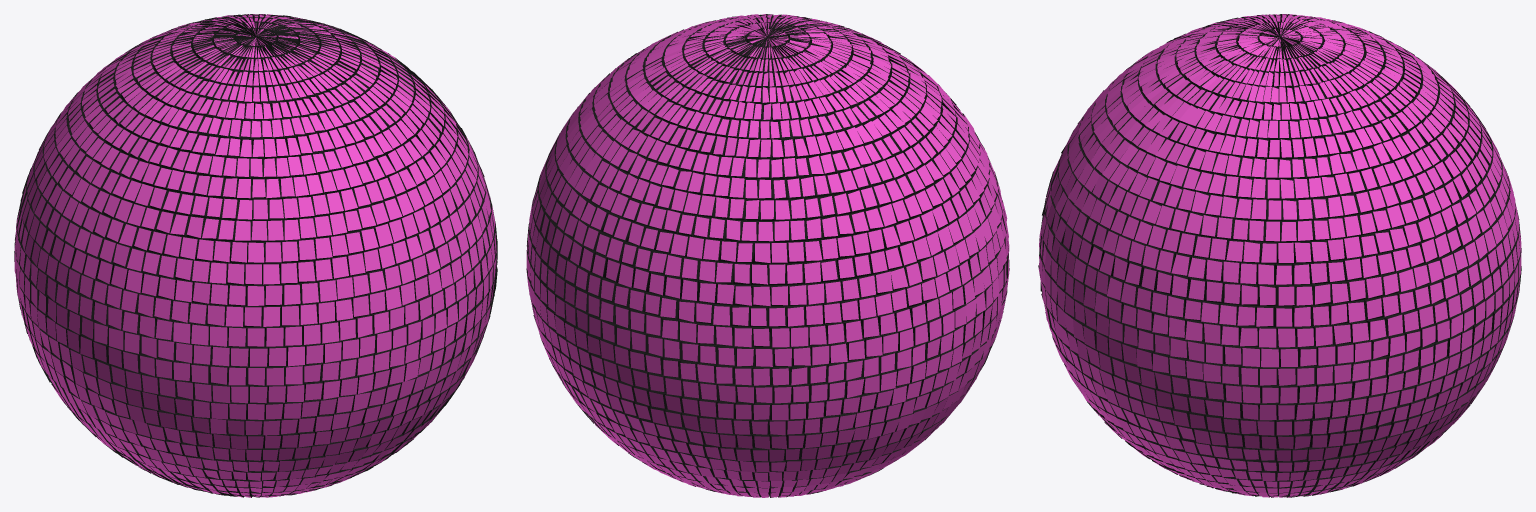
File: disco.gltf
The picture shows the model from 3 angles, left to right: view 1: azimuth 30°, elevation 25°; view 2: azimuth 150°, elevation 25°; view 3: azimuth 270°, elevation 25°; orthographic projection.
Visible parts, largest first — view 1: pSphere3; view 2: pSphere3; view 3: pSphere3.
Boxes of the visible parts, box(x1,y1,x2,y2) form: pSphere3: box(14, 14, 497, 497); pSphere3: box(526, 14, 1009, 497); pSphere3: box(1038, 14, 1521, 497).
Size of the model in its own units: 2.02 by 2.02 by 2.02.
